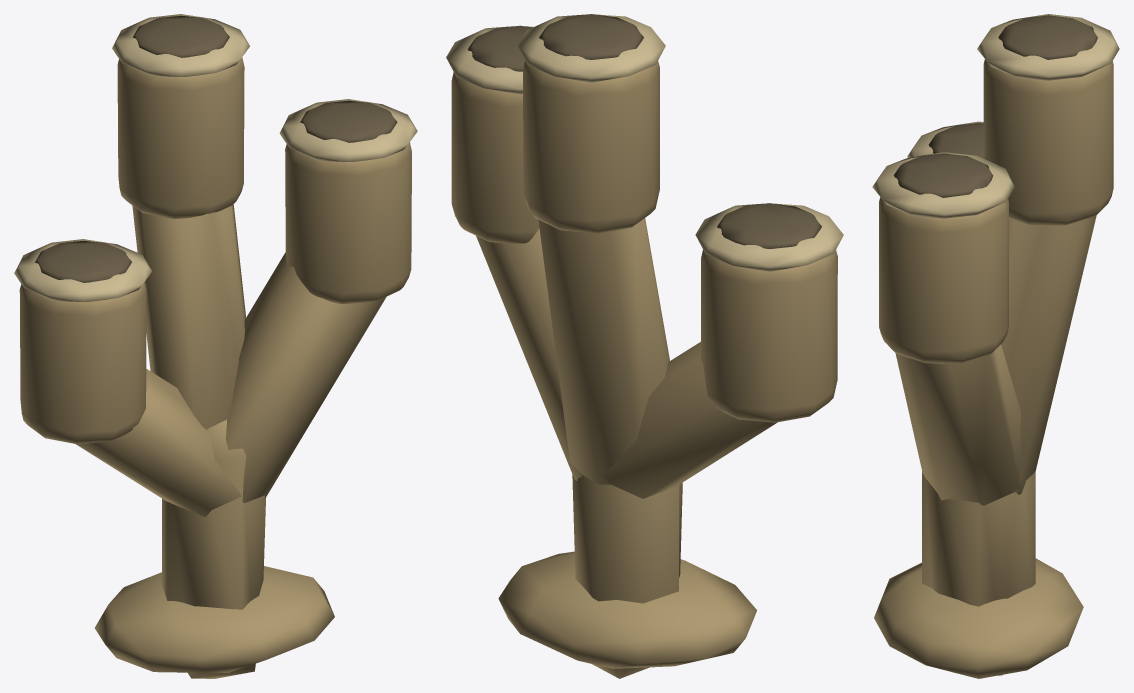
File: org_vauxia.glb
3 renders of one model, left to right at view 1: azimuth 30°, elevation 25°; view 2: azimuth 150°, elevation 25°; view 3: azimuth 270°, elevation 25°, orthographic. The views are drawn at different scales.
Visible parts, largest first — view 1: Body; view 2: Body; view 3: Body.
Boxes of the visible parts, bbox=[...] form: Body: bbox=[14, 14, 417, 678]; Body: bbox=[446, 14, 843, 678]; Body: bbox=[872, 14, 1119, 678].
Size of the model in its own units: 0.2776 by 0.45 by 0.1564.
